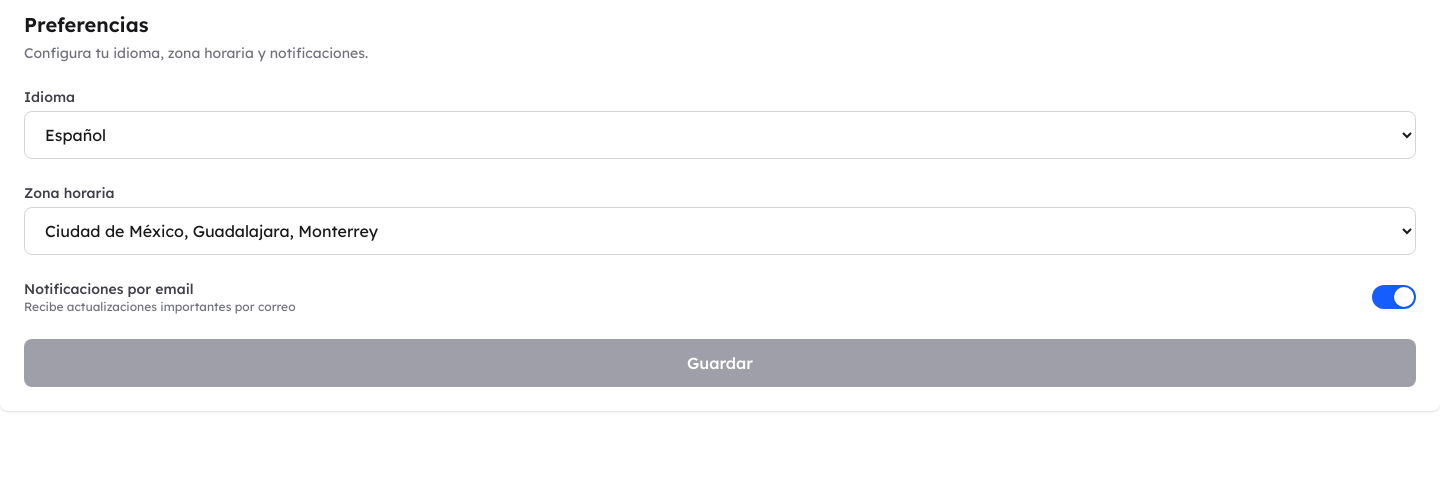
PreferencesPage › on save success: shows toast and save becomes disabled
Click the switch: {"x": 1394, "y": 297} [1372,285,1416,309]
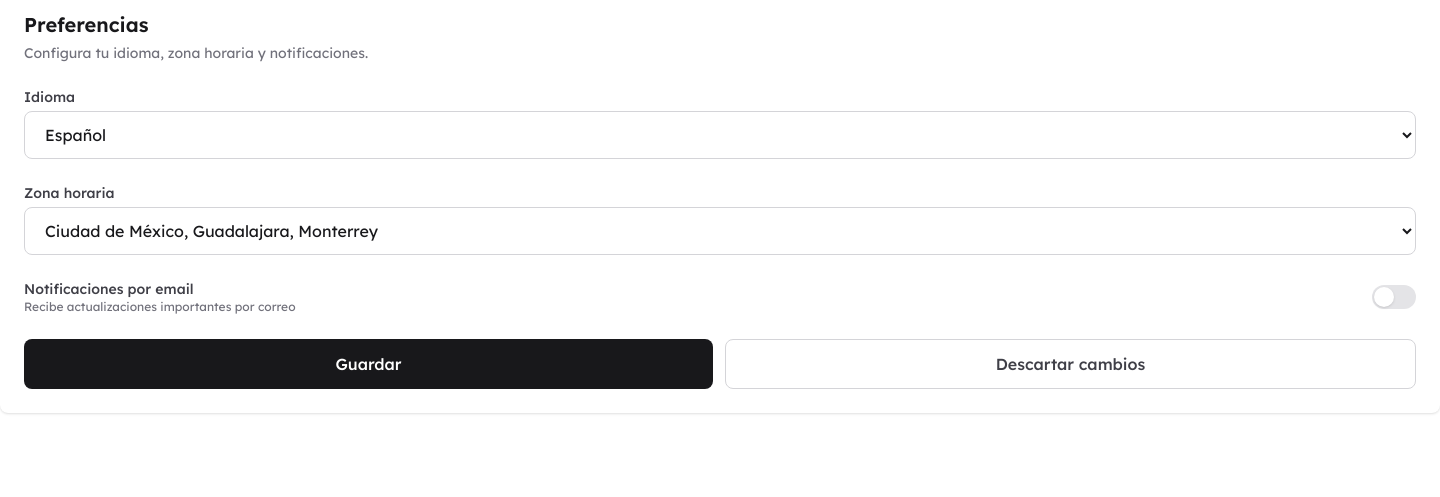
Click the button "Guardar": {"x": 368, "y": 364} [24,339,713,389]
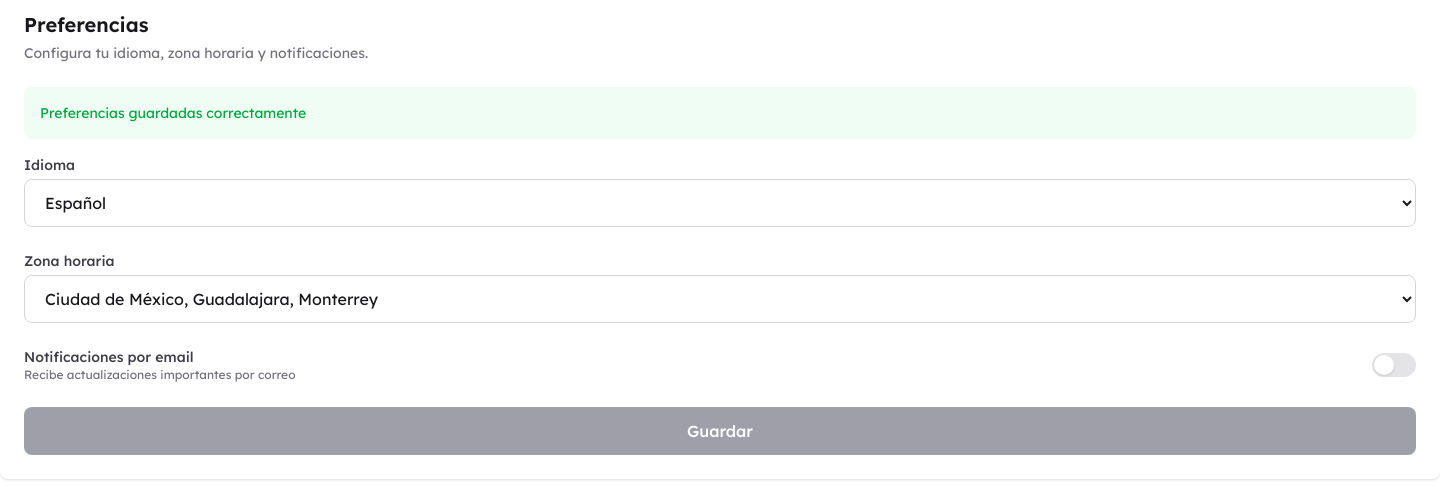
Now the text "Preferencias guardadas correctamente" is shown, box [24,87,1416,139]
